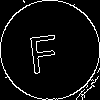F: (25, 25, 62, 74)
